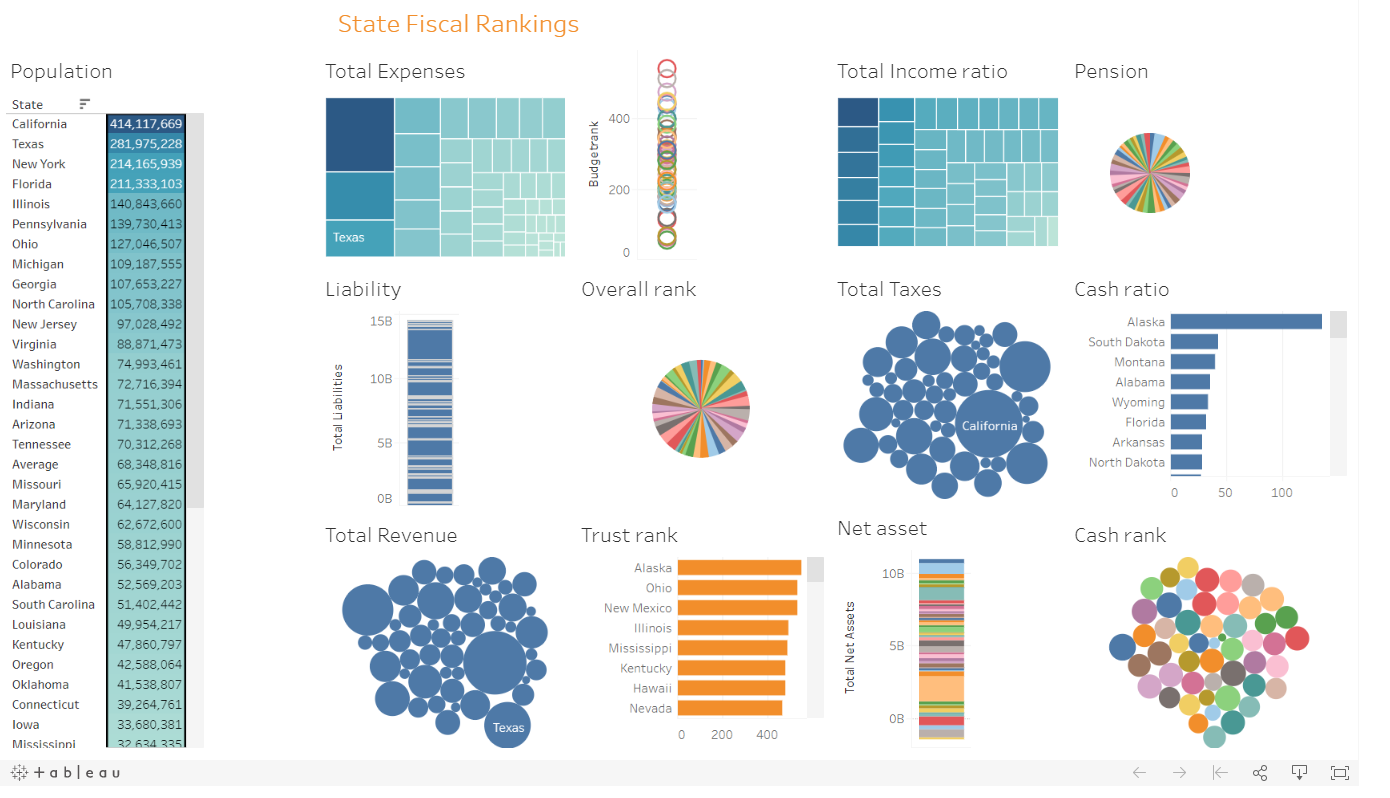

What the dashboard file says about the page in this screenshot:
{"tool":"tableau","page":{"name":"State Fiscal Rankings","canvas":[1366,768],"ordinal":0},"visuals":[{"type":"worksheet","box":[0,0,1366,768]},{"type":"worksheet","box":[8,8,1350,46]},{"type":"worksheet","param":"horz","box":[8,54,1350,706]},{"type":"worksheet","param":"horz","box":[8,54,1350,706]},{"type":"worksheet","param":"horz","box":[8,54,1350,706]},{"type":"worksheet","param":"horz","box":[8,54,1350,706]},{"type":"worksheet","param":"horz","box":[8,54,1064,706]},{"type":"worksheet","param":"horz","box":[8,54,1064,706]},{"type":"worksheet","box":[8,54,1064,706]},{"type":"worksheet","param":"horz","box":[8,54,1064,706]},{"type":"worksheet","param":"horz","box":[8,54,1064,706]},{"type":"worksheet","param":"horz","box":[8,54,1064,706]},{"type":"worksheet","box":[8,54,827,706]},{"type":"worksheet","title":"Population","mark":"Square","rows":["State"],"box":[8,54,315.3,706]},{"type":"worksheet","param":"horz","box":[323.3,54,511.7,706]},{"type":"worksheet","box":[323.3,54,511.7,706]},{"type":"worksheet","title":"Total Expenses","mark":"Automatic","box":[323.3,54,255.7,217.8]},{"type":"worksheet","title":"ranks t b","mark":"Shape","rows":["budgetrank"],"box":[579,54,256,217.8]},{"type":"worksheet","box":[835,54,237,706]},{"type":"worksheet","box":[835,54,237,706]},{"type":"worksheet","box":[835,54,237,706]},{"type":"worksheet","param":"vert","box":[835,54,237,218]},{"type":"worksheet","title":"Total Income ratio","mark":"Automatic","box":[835,54,237,208]},{"type":"worksheet","box":[1072,54,286,706]},{"type":"worksheet","box":[1072,54,286,464]},{"type":"worksheet","box":[1072,54,286,464]},{"type":"worksheet","param":"vert","box":[1072,54,286,218]},{"type":"worksheet","title":"Pension","mark":"Pie","box":[1072,54,286,218]},{"type":"worksheet","title":"Liability","mark":"Automatic","rows":["Total Liabilities"],"box":[323.3,271.8,255.8,246]},{"type":"worksheet","title":"Overall rank","mark":"Pie","box":[579.1,271.8,255.9,246]},{"type":"worksheet","box":[835,272,237,488]},{"type":"worksheet","param":"vert","box":[835,272,237,238.9]},{"type":"worksheet","title":"Total Taxes","mark":"Circle","box":[835,272,237,238.9]},{"type":"worksheet","param":"vert","box":[1072,272,286,246]},{"type":"worksheet","title":"Cash ratio","mark":"Automatic","rows":["State"],"cols":["1.Cash_ratio"],"box":[1072,272,286,246]},{"type":"worksheet","param":"vert","box":[835,510.9,237,249.1]},{"type":"worksheet","title":"Net asset","mark":"Automatic","rows":["Total Net Assets"],"box":[835,510.9,237,249.1]},{"type":"worksheet","title":"Total Revenue","mark":"Circle","box":[323.3,517.8,255.7,242.2]},{"type":"worksheet","title":"Trust rank","mark":"Automatic","rows":["State"],"cols":["trustrank"],"box":[579,517.8,255.9,242.2]},{"type":"worksheet","param":"horz","box":[1072,518,286,242]},{"type":"worksheet","title":"Cash rank","mark":"Circle","box":[1072,518,286,242]}]}

Visuals, with their boxes on the page's 1366x768 design canvas (x1, y1, x2, y2). These are canvas units, not pixel positions in the 1390x798 screenshot, which may show the page scaled, cropped or inside an application window:
worksheet: bbox=(0, 0, 1366, 768)
worksheet: bbox=(8, 8, 1358, 54)
worksheet: bbox=(8, 54, 1358, 760)
worksheet: bbox=(8, 54, 1358, 760)
worksheet: bbox=(8, 54, 1358, 760)
worksheet: bbox=(8, 54, 1358, 760)
worksheet: bbox=(8, 54, 1072, 760)
worksheet: bbox=(8, 54, 1072, 760)
worksheet: bbox=(8, 54, 1072, 760)
worksheet: bbox=(8, 54, 1072, 760)
worksheet: bbox=(8, 54, 1072, 760)
worksheet: bbox=(8, 54, 1072, 760)
worksheet: bbox=(8, 54, 835, 760)
"Population" worksheet (Square marks): bbox=(8, 54, 323, 760)
worksheet: bbox=(323, 54, 835, 760)
worksheet: bbox=(323, 54, 835, 760)
"Total Expenses" worksheet: bbox=(323, 54, 579, 272)
"ranks t b" worksheet (Shape marks): bbox=(579, 54, 835, 272)
worksheet: bbox=(835, 54, 1072, 760)
worksheet: bbox=(835, 54, 1072, 760)
worksheet: bbox=(835, 54, 1072, 760)
worksheet: bbox=(835, 54, 1072, 272)
"Total Income ratio" worksheet: bbox=(835, 54, 1072, 262)
worksheet: bbox=(1072, 54, 1358, 760)
worksheet: bbox=(1072, 54, 1358, 518)
worksheet: bbox=(1072, 54, 1358, 518)
worksheet: bbox=(1072, 54, 1358, 272)
"Pension" worksheet (Pie marks): bbox=(1072, 54, 1358, 272)
"Liability" worksheet: bbox=(323, 272, 579, 518)
"Overall rank" worksheet (Pie marks): bbox=(579, 272, 835, 518)
worksheet: bbox=(835, 272, 1072, 760)
worksheet: bbox=(835, 272, 1072, 511)
"Total Taxes" worksheet (Circle marks): bbox=(835, 272, 1072, 511)
worksheet: bbox=(1072, 272, 1358, 518)
"Cash ratio" worksheet: bbox=(1072, 272, 1358, 518)
worksheet: bbox=(835, 511, 1072, 760)
"Net asset" worksheet: bbox=(835, 511, 1072, 760)
"Total Revenue" worksheet (Circle marks): bbox=(323, 518, 579, 760)
"Trust rank" worksheet: bbox=(579, 518, 835, 760)
worksheet: bbox=(1072, 518, 1358, 760)
"Cash rank" worksheet (Circle marks): bbox=(1072, 518, 1358, 760)
